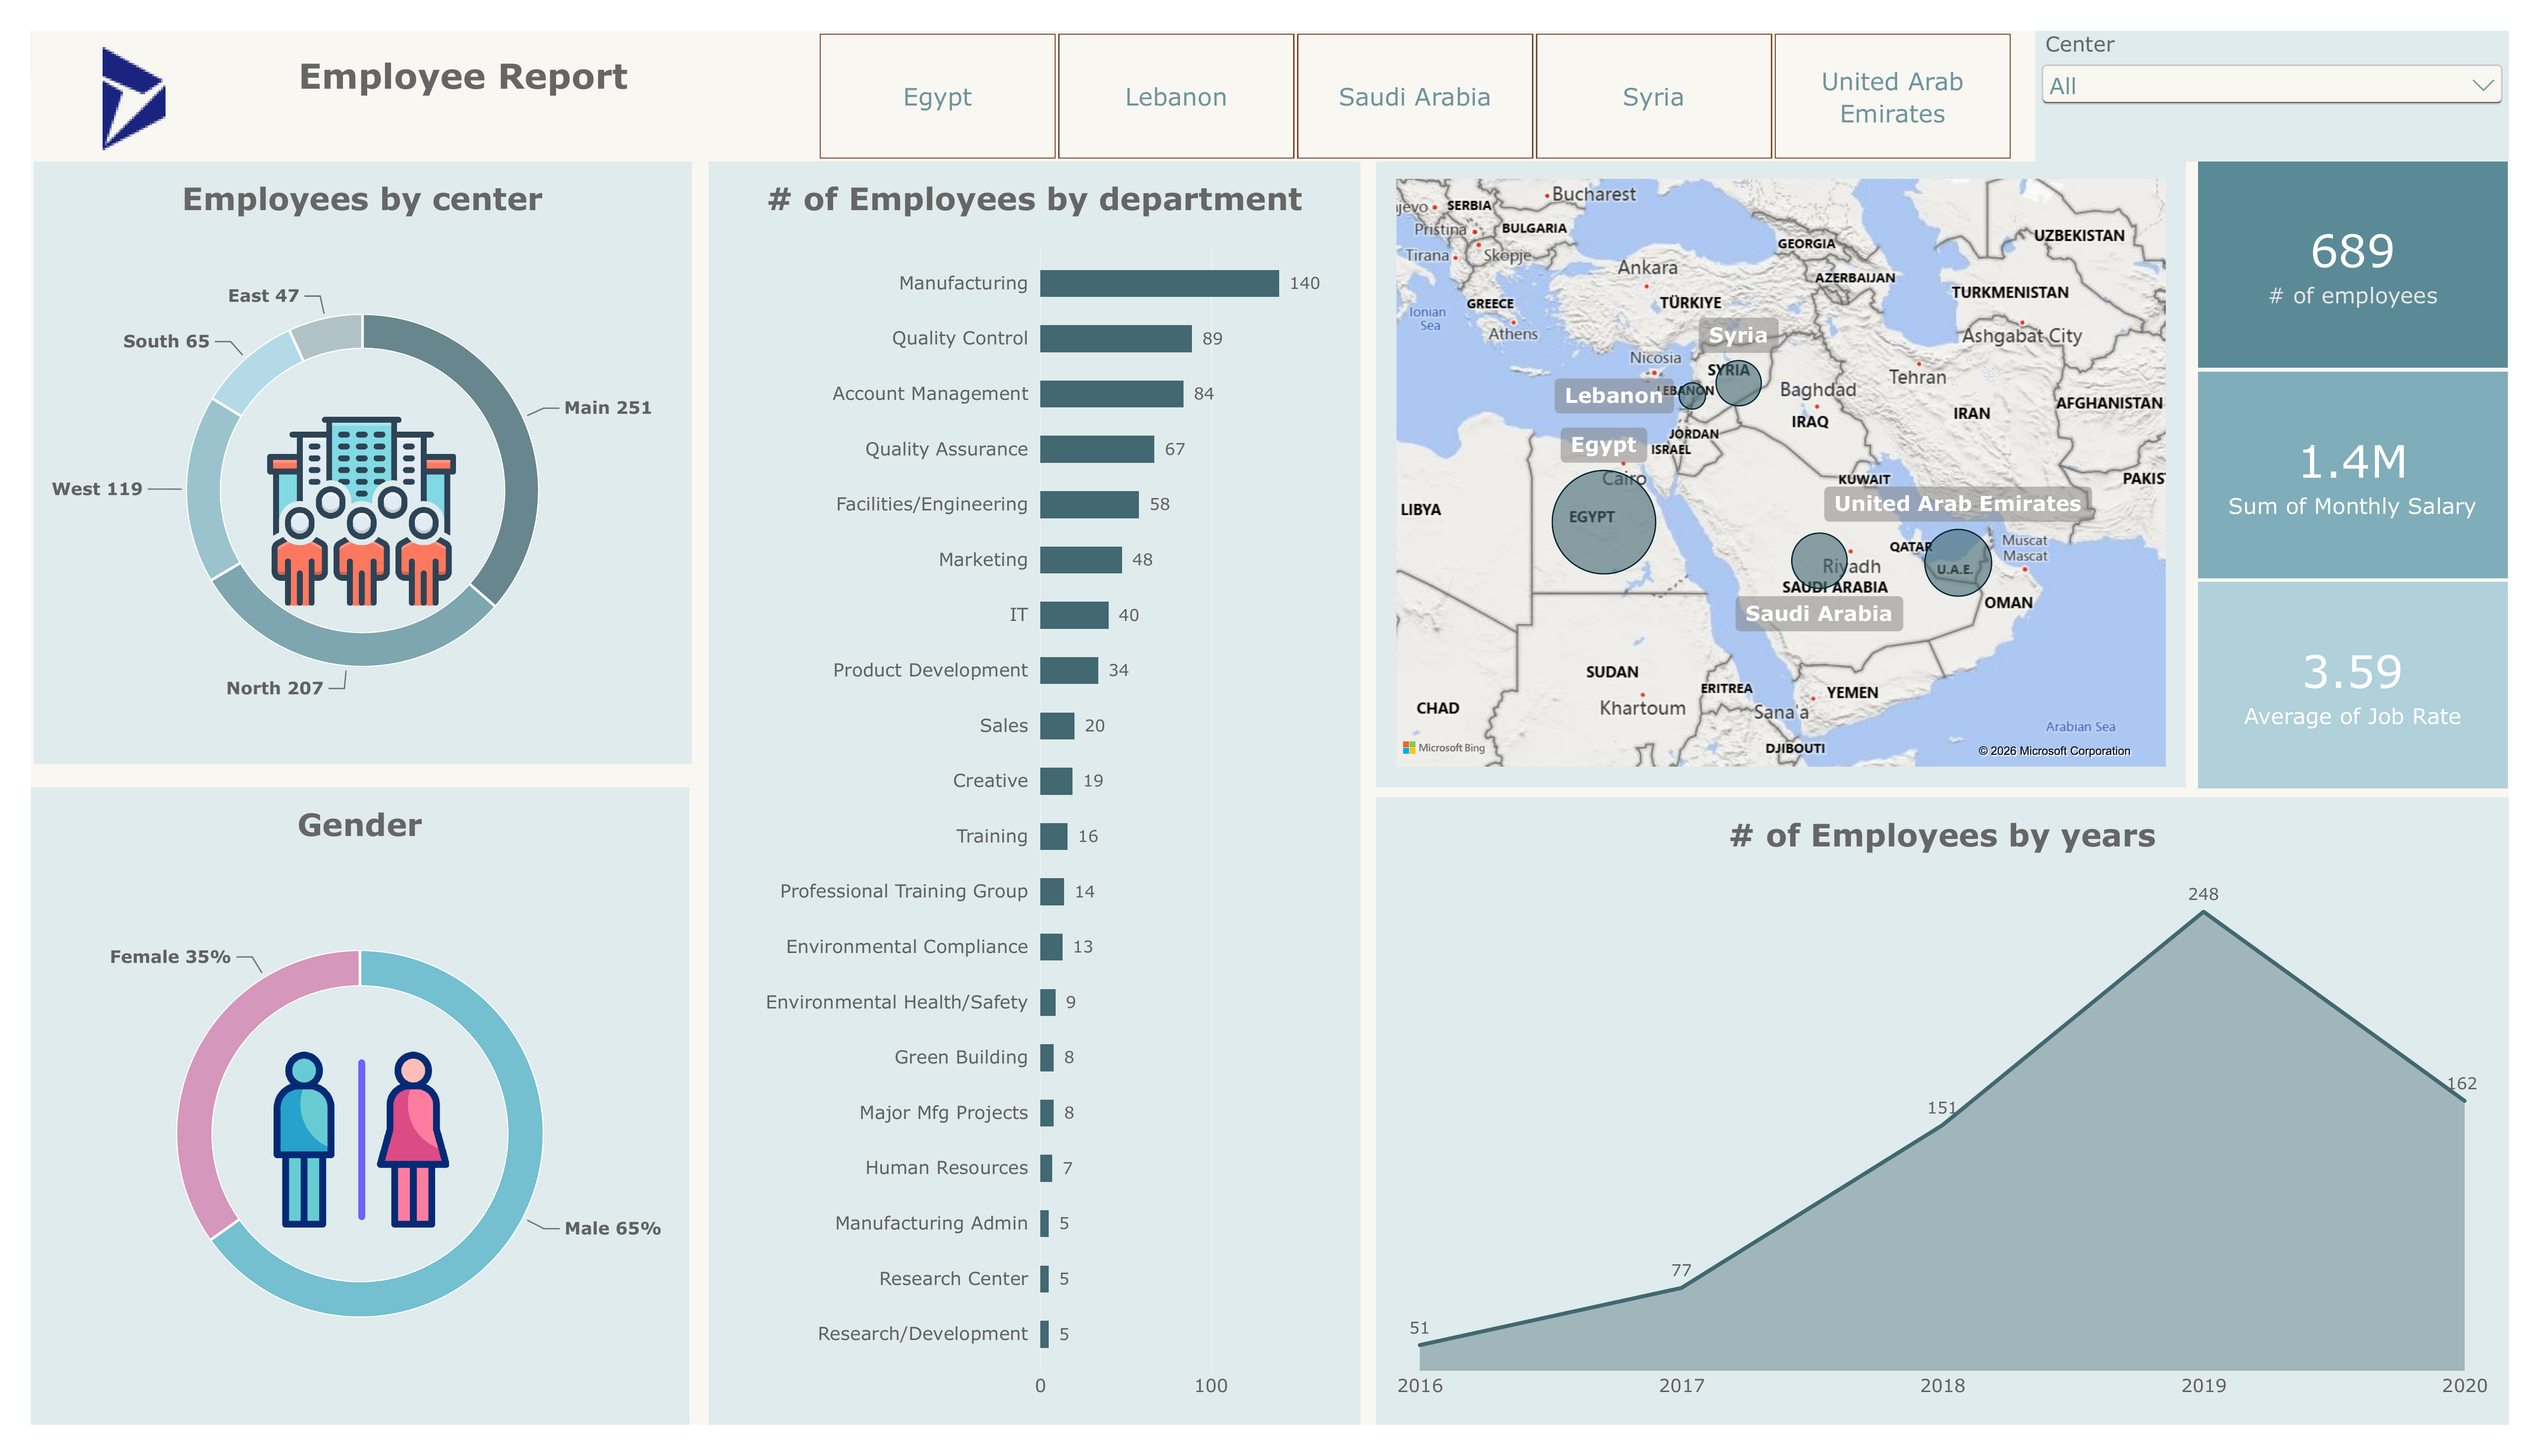

The page's visual inventory and layout, read from the dashboard file:
{"tool":"powerbi","page":{"name":"Page 1","canvas":[1920,1080],"ordinal":0},"visuals":[{"type":"donutChart","title":"Employees by center","fields":{"Category":["EmpTable.Center"],"Y":["CountNonNull(EmpTable.No)"]},"box":[1.8,101.3,510.3,466.9],"z":0},{"type":"clusteredBarChart","title":"# of Employees by department","fields":{"Category":["EmpTable.Department"],"Y":["CountNonNull(EmpTable.No)"]},"box":[524.8,101.3,504.9,979],"z":1000},{"type":"donutChart","title":"Gender","fields":{"Category":["EmpTable.Gender"],"Y":["CountNonNull(EmpTable.Gender)"]},"box":[0,586.3,510.3,494],"z":2000},{"type":"map","fields":{"Category":["EmpTable.Country"],"Size":["Sum(EmpTable.No)"]},"box":[1042.4,101.3,628,485],"z":3000},{"type":"areaChart","title":"# of Employees by years","fields":{"Category":["EmpTable.Start Date.Variation.Date Hierarchy.Year","EmpTable.Start Date.Variation.Date Hierarchy.Quarter","EmpTable.Start Date.Variation.Date Hierarchy.Month","EmpTable.Start Date.Variation.Date Hierarchy.Day"],"Y":["CountNonNull(EmpTable.No)"]},"box":[1041.9,594.3,878.6,486.1],"z":4000},{"type":"card","fields":{"Values":["CountNonNull(EmpTable.No)"]},"box":[1679.4,101.3,240,160],"z":5000},{"type":"card","fields":{"Values":["Avg(EmpTable.Job Rate)"]},"box":[1679.4,427.1,240,160],"z":6000},{"type":"card","fields":{"Values":["Sum(EmpTable.Monthly Salary)"]},"box":[1679.4,264.2,240,160],"z":7000},{"type":"slicer","fields":{"Values":["EmpTable.Country"]},"box":[589.9,0,962.7,101.3],"z":8000},{"type":"slicer","fields":{"Values":["EmpTable.Center"]},"box":[1552.7,0,367.4,101.3],"z":9000},{"type":"textbox","box":[79.6,18.1,510.3,65.1],"z":10000},{"type":"image","box":[188.2,790.8,135.7,135.7],"z":11000},{"type":"image","box":[179.2,298.6,153.8,146.6],"z":12000},{"type":"image","box":[27.5,11,100.9,82.5],"z":13000}]}

Visuals, with their boxes in screenshot pixels (x1, y1, x2, y2), scaled from the page's 1920x1080 canvas onto the 2540x1456 screenshot:
"Employees by center" donutChart: (left=2, top=137, right=677, bottom=766)
"# of Employees by department" clusteredBarChart: (left=694, top=137, right=1362, bottom=1456)
"Gender" donutChart: (left=0, top=790, right=675, bottom=1456)
map - EmpTable.Country x Sum(EmpTable.No): (left=1379, top=137, right=2210, bottom=790)
"# of Employees by years" areaChart: (left=1378, top=801, right=2540, bottom=1456)
card - CountNonNull(EmpTable.No): (left=2222, top=137, right=2539, bottom=352)
card - Avg(EmpTable.Job Rate): (left=2222, top=576, right=2539, bottom=791)
card - Sum(EmpTable.Monthly Salary): (left=2222, top=356, right=2539, bottom=572)
slicer - EmpTable.Country: (left=781, top=0, right=2054, bottom=137)
slicer - EmpTable.Center: (left=2054, top=0, right=2540, bottom=137)
textbox: (left=105, top=24, right=781, bottom=112)
image: (left=249, top=1066, right=429, bottom=1249)
image: (left=237, top=402, right=441, bottom=600)
image: (left=36, top=15, right=170, bottom=126)
